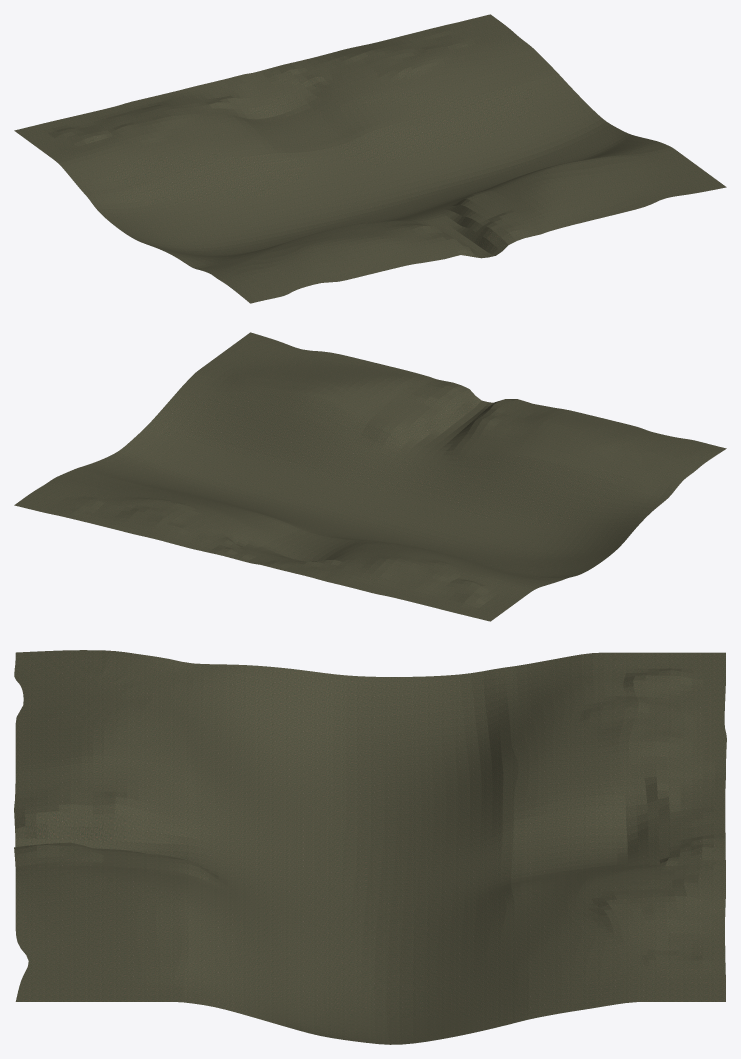
Rendered from MontanasRioPuente.fbx.
The picture shows the model from 3 angles, top to bottom: view 1: azimuth 30°, elevation 25°; view 2: azimuth 150°, elevation 25°; view 3: azimuth 270°, elevation 25°; orthographic projection. The views are drawn at different scales.
Parts seen in each view (by area): view 1: RioPuente; view 2: RioPuente; view 3: RioPuente.
Part boxes in pixels (<box>): RioPuente: <box>14,14,726,303</box>; RioPuente: <box>14,332,726,621</box>; RioPuente: <box>14,650,726,1044</box>.
Bounding box in the file's own units: 33093 × 3725 × 28071.
Materials: 1 (1 with a texture image).
